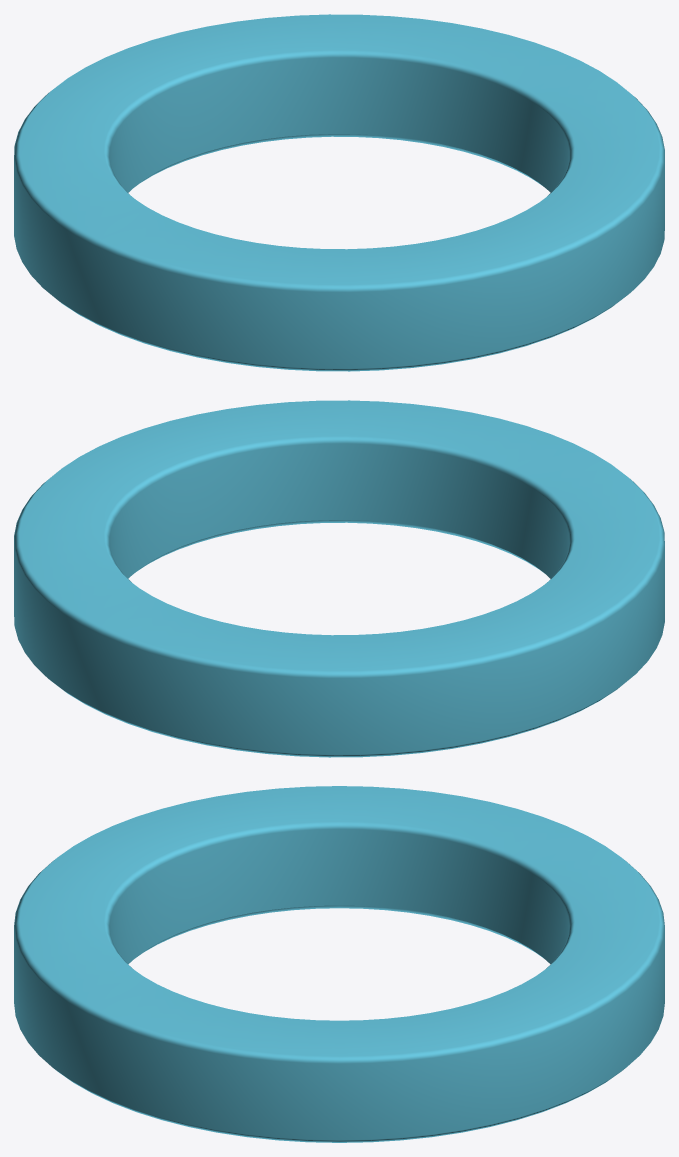
3 views of the same model, one above another, from view 1: azimuth 30°, elevation 25°; view 2: azimuth 150°, elevation 25°; view 3: azimuth 270°, elevation 25° (orthographic).
Parts seen in each view (by area): view 1: seal_body; view 2: seal_body; view 3: seal_body.
Boxes of the visible parts, left/top/right/bottom form: seal_body: left=14, top=14, right=664, bottom=371; seal_body: left=14, top=400, right=664, bottom=757; seal_body: left=14, top=786, right=664, bottom=1142.
Size of the model in its own units: 0.054 by 0.00793 by 0.054.
